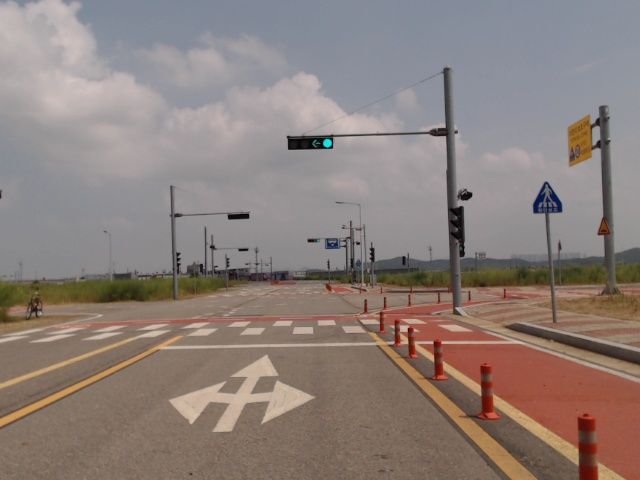all_green_4: (287, 134, 335, 150), (306, 238, 321, 243)
